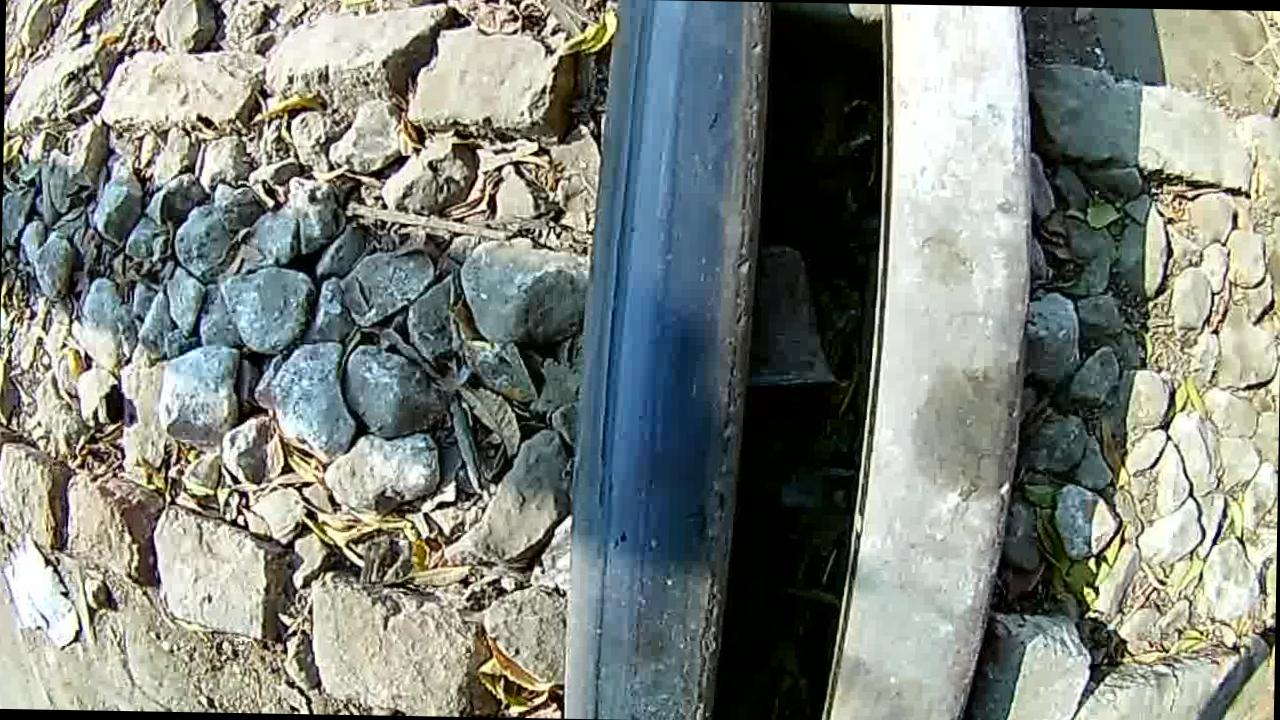clip_missing: (561, 0, 781, 720)
